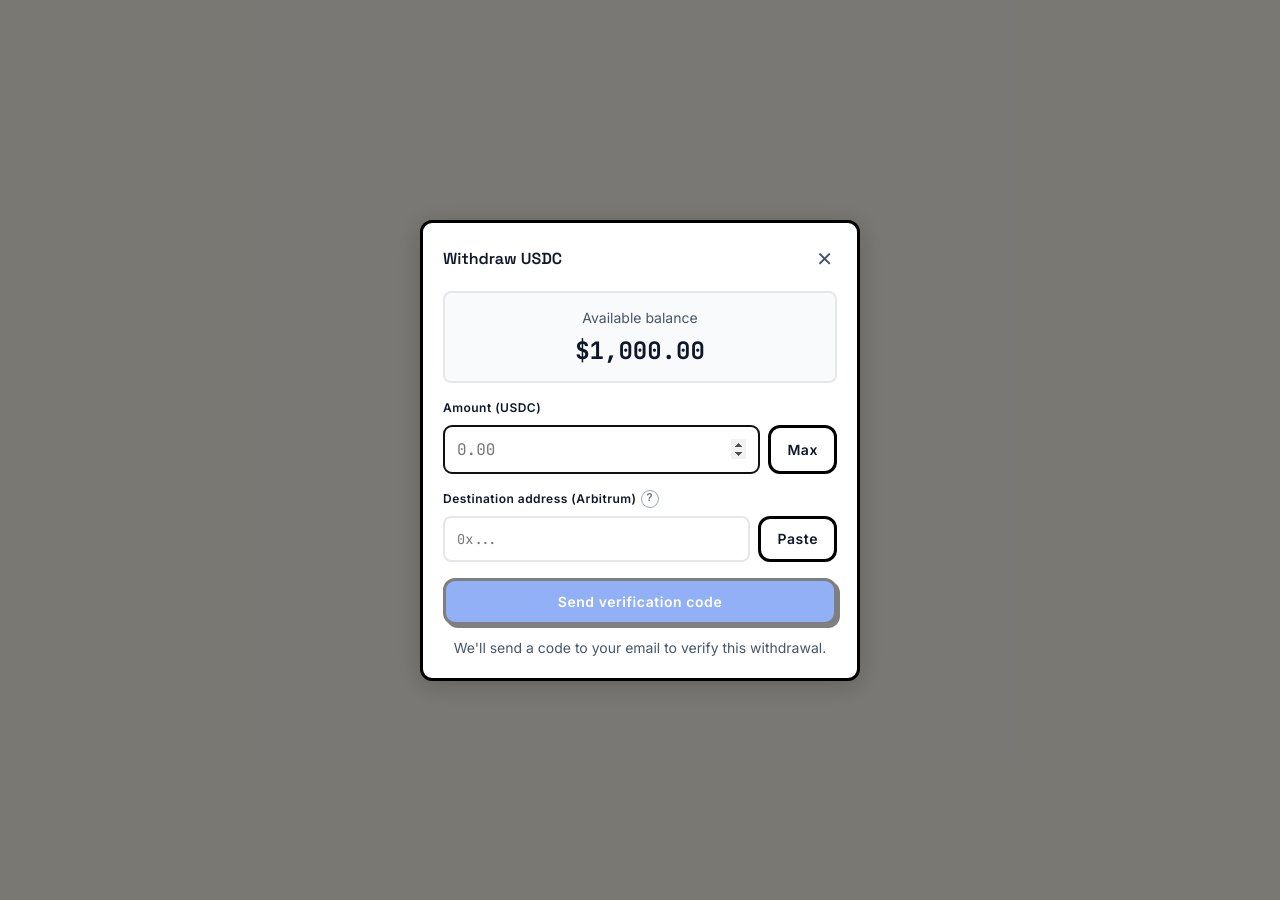
WithdrawSheet › shows error message on API failure
Type "100" into the number field labelled "Amount (USDC)" at (602, 449), box x1=443 y1=424 x2=760 y2=474
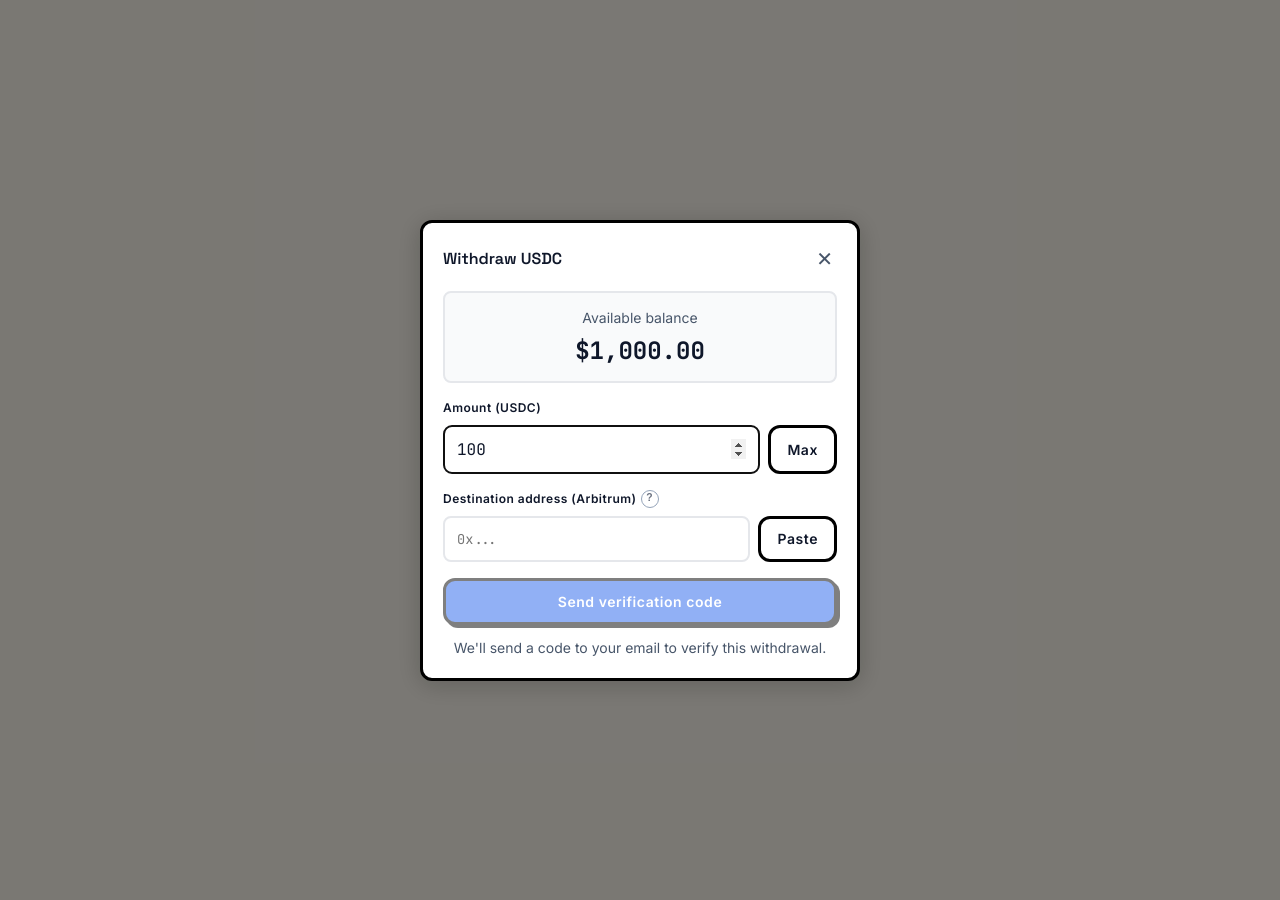
Type "0xAbCdEf1234567890AbCdEf1234567890AbCdEf12" into the field labelled "Destination address (Arbitrum)" at (597, 538), box x1=443 y1=516 x2=750 y2=562
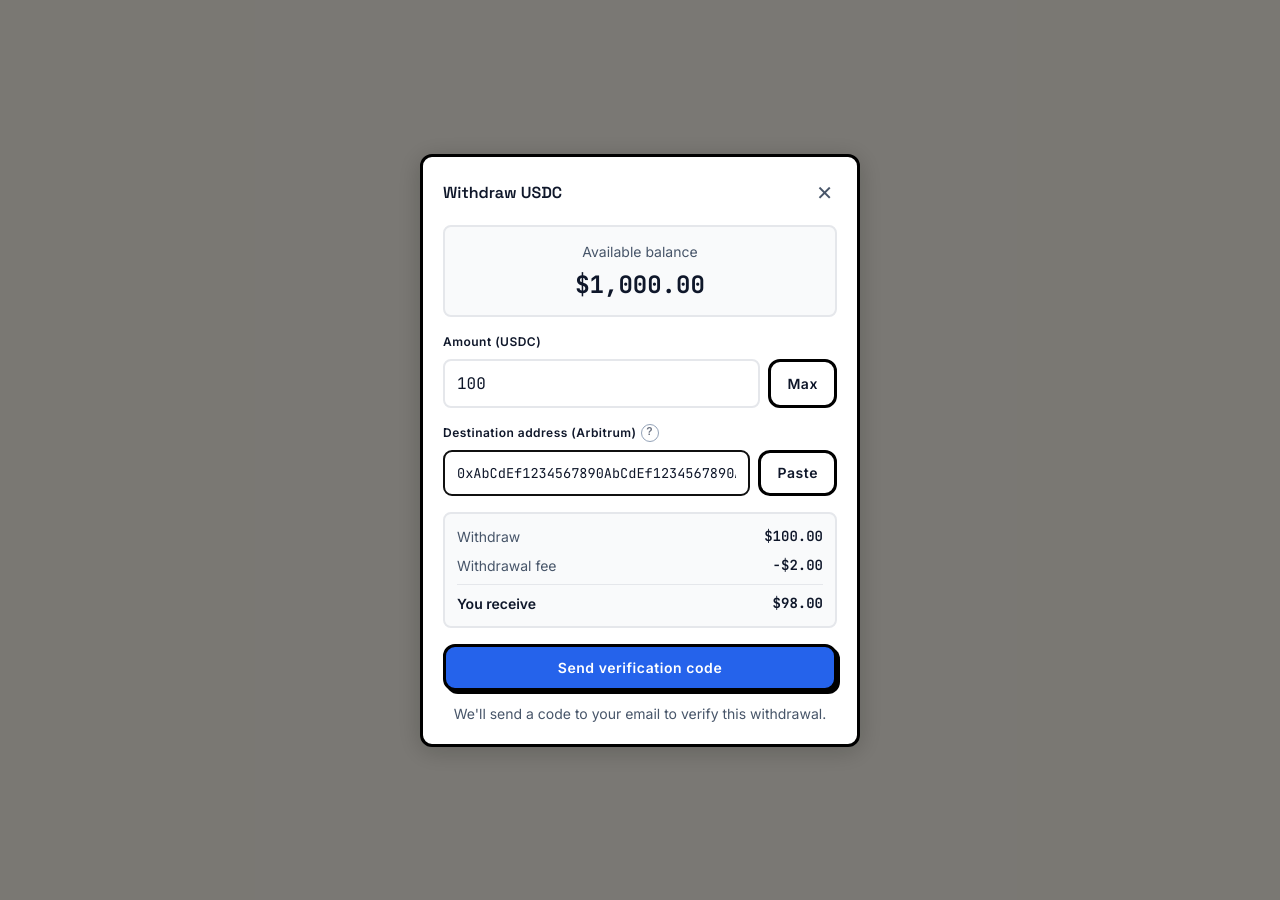
Click the button "Send verification code" at (640, 667), box x1=443 y1=644 x2=837 y2=690
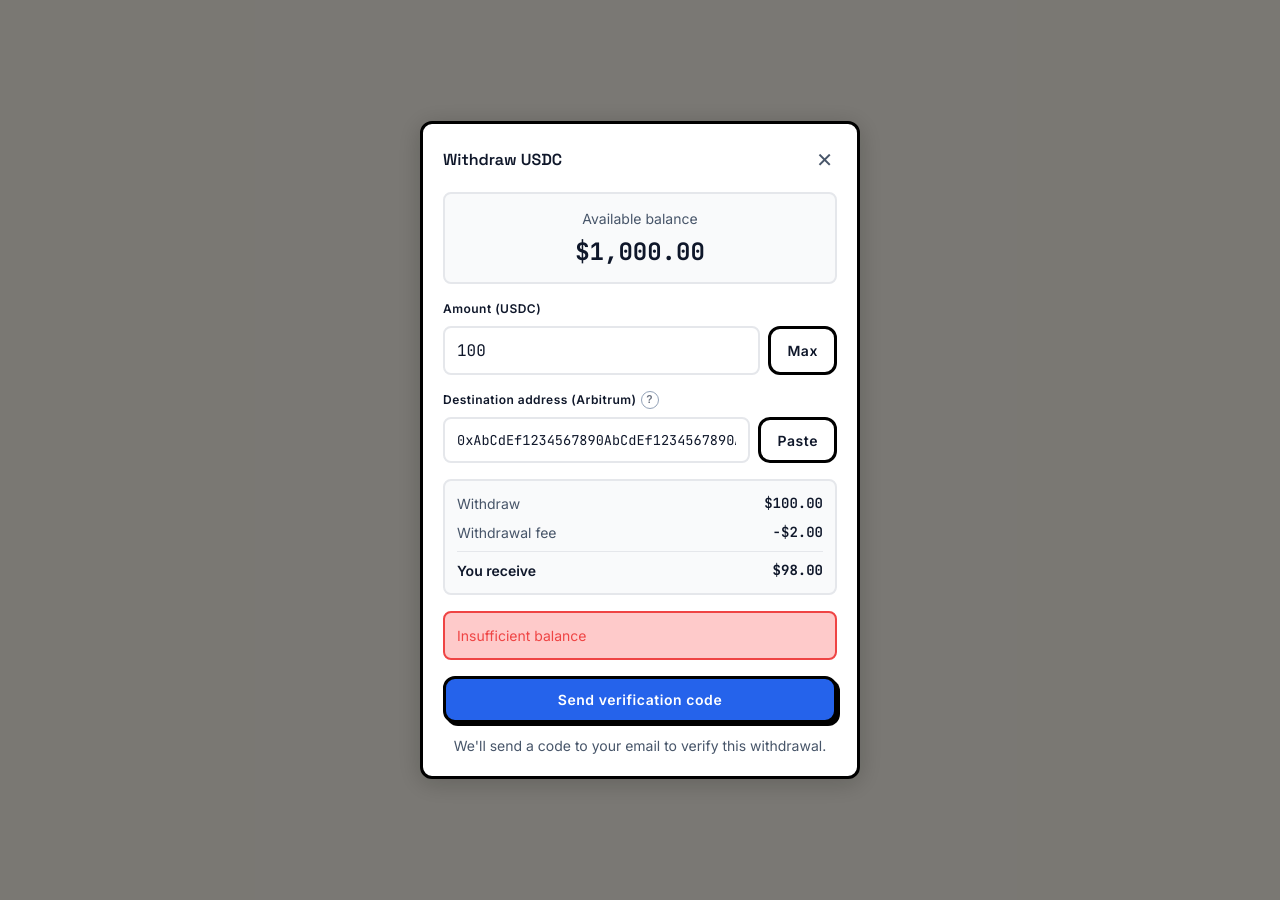
Now the text "Insufficient balance" is shown, box x1=457 y1=627 x2=586 y2=644
